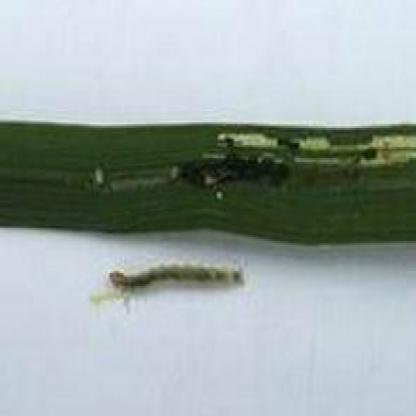leaf-folder: (92, 244, 262, 330)
